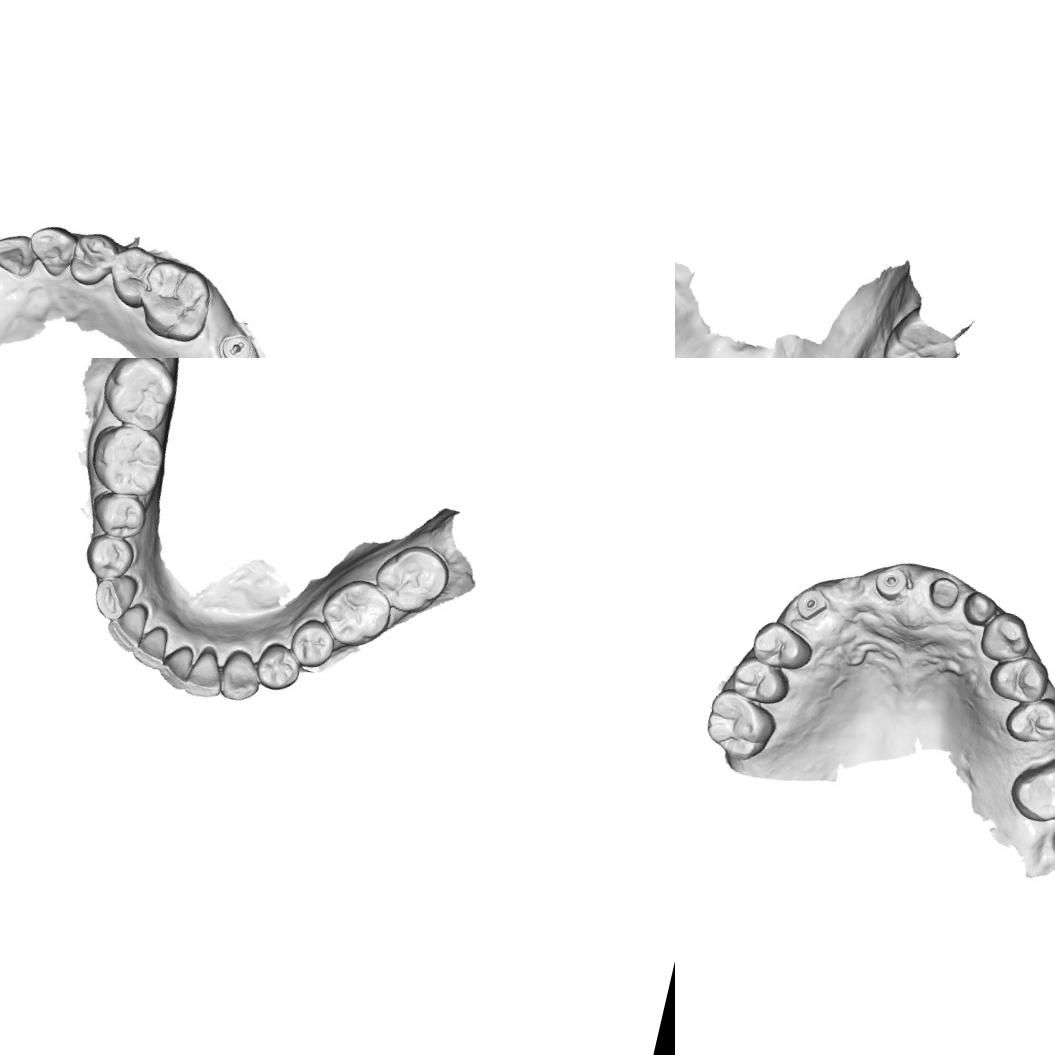canine: (975, 606, 1036, 668), (22, 219, 81, 283), (215, 646, 267, 705), (88, 569, 140, 625)
crown: (958, 587, 1001, 631), (924, 571, 965, 615)
implant: (870, 562, 912, 604), (792, 585, 831, 624)
implant_minus: (213, 328, 257, 358)
incisor: (102, 596, 152, 655), (182, 641, 230, 702), (0, 225, 42, 283), (154, 640, 197, 692), (130, 620, 172, 672)
molar: (132, 254, 221, 348), (84, 416, 170, 501), (698, 683, 784, 767), (368, 537, 454, 620), (94, 358, 183, 436), (314, 572, 398, 654), (873, 310, 968, 358), (1003, 747, 1055, 829)
premolar: (746, 615, 819, 675), (100, 240, 159, 312), (984, 649, 1054, 708), (65, 225, 125, 291), (728, 652, 796, 708), (87, 486, 151, 543), (1000, 688, 1055, 750), (251, 638, 306, 696), (286, 614, 340, 672), (81, 530, 138, 584)
